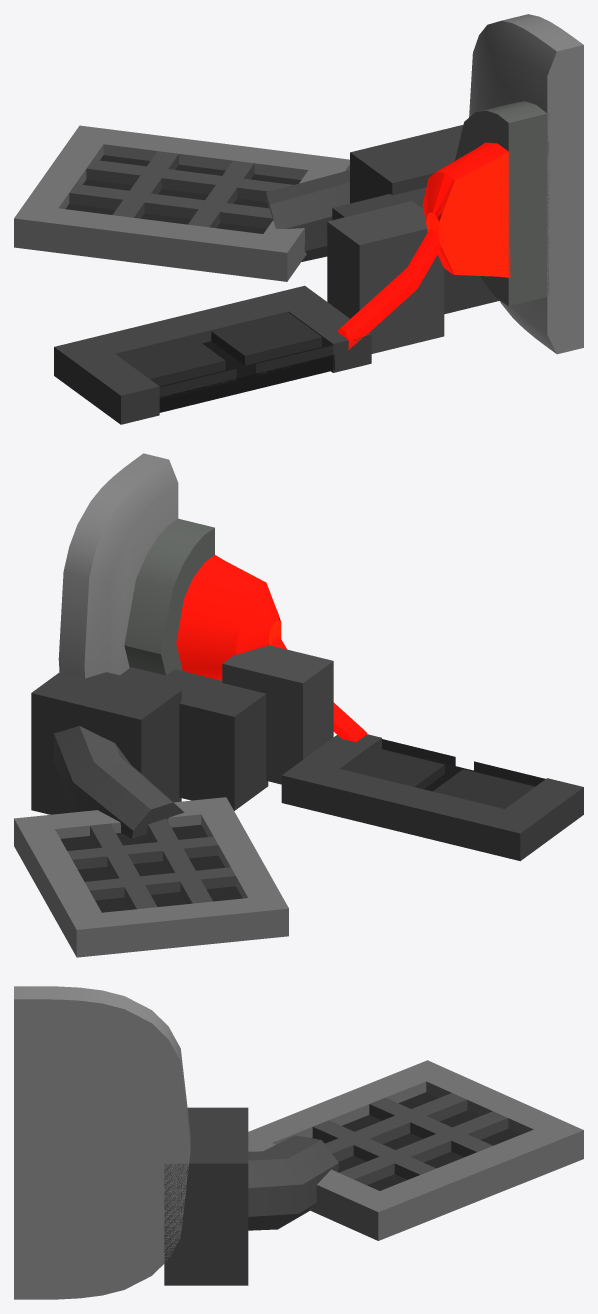
The model's file is newshl-11.glb.
The picture shows the model from 3 angles, top to bottom: view 1: azimuth 30°, elevation 25°; view 2: azimuth 150°, elevation 25°; view 3: azimuth 270°, elevation 25°; orthographic projection. The views are drawn at different scales.
Parts seen in each view (by area): view 1: newshl-11; view 2: newshl-11; view 3: newshl-11.
Part boxes in pixels (box(x1,y1,x2,y2)): newshl-11: box(14, 14, 583, 424); newshl-11: box(14, 453, 583, 957); newshl-11: box(14, 986, 583, 1299).
Bounding box in the file's own units: 2 × 1.25 × 2.15.
